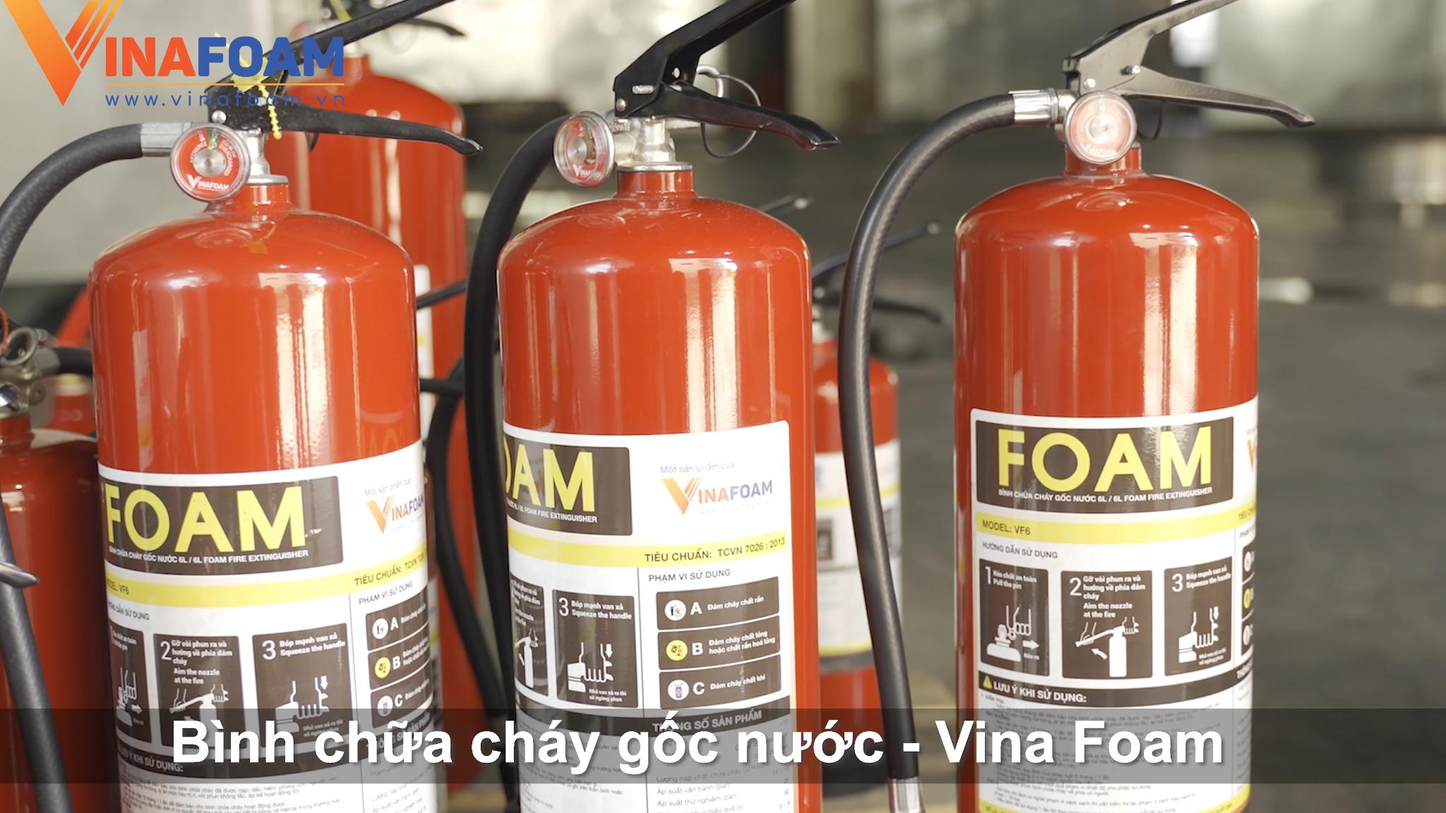FireExtinguisher: (915, 0, 1333, 813), (488, 59, 853, 813), (113, 0, 442, 813), (799, 232, 931, 804), (0, 258, 94, 813)
